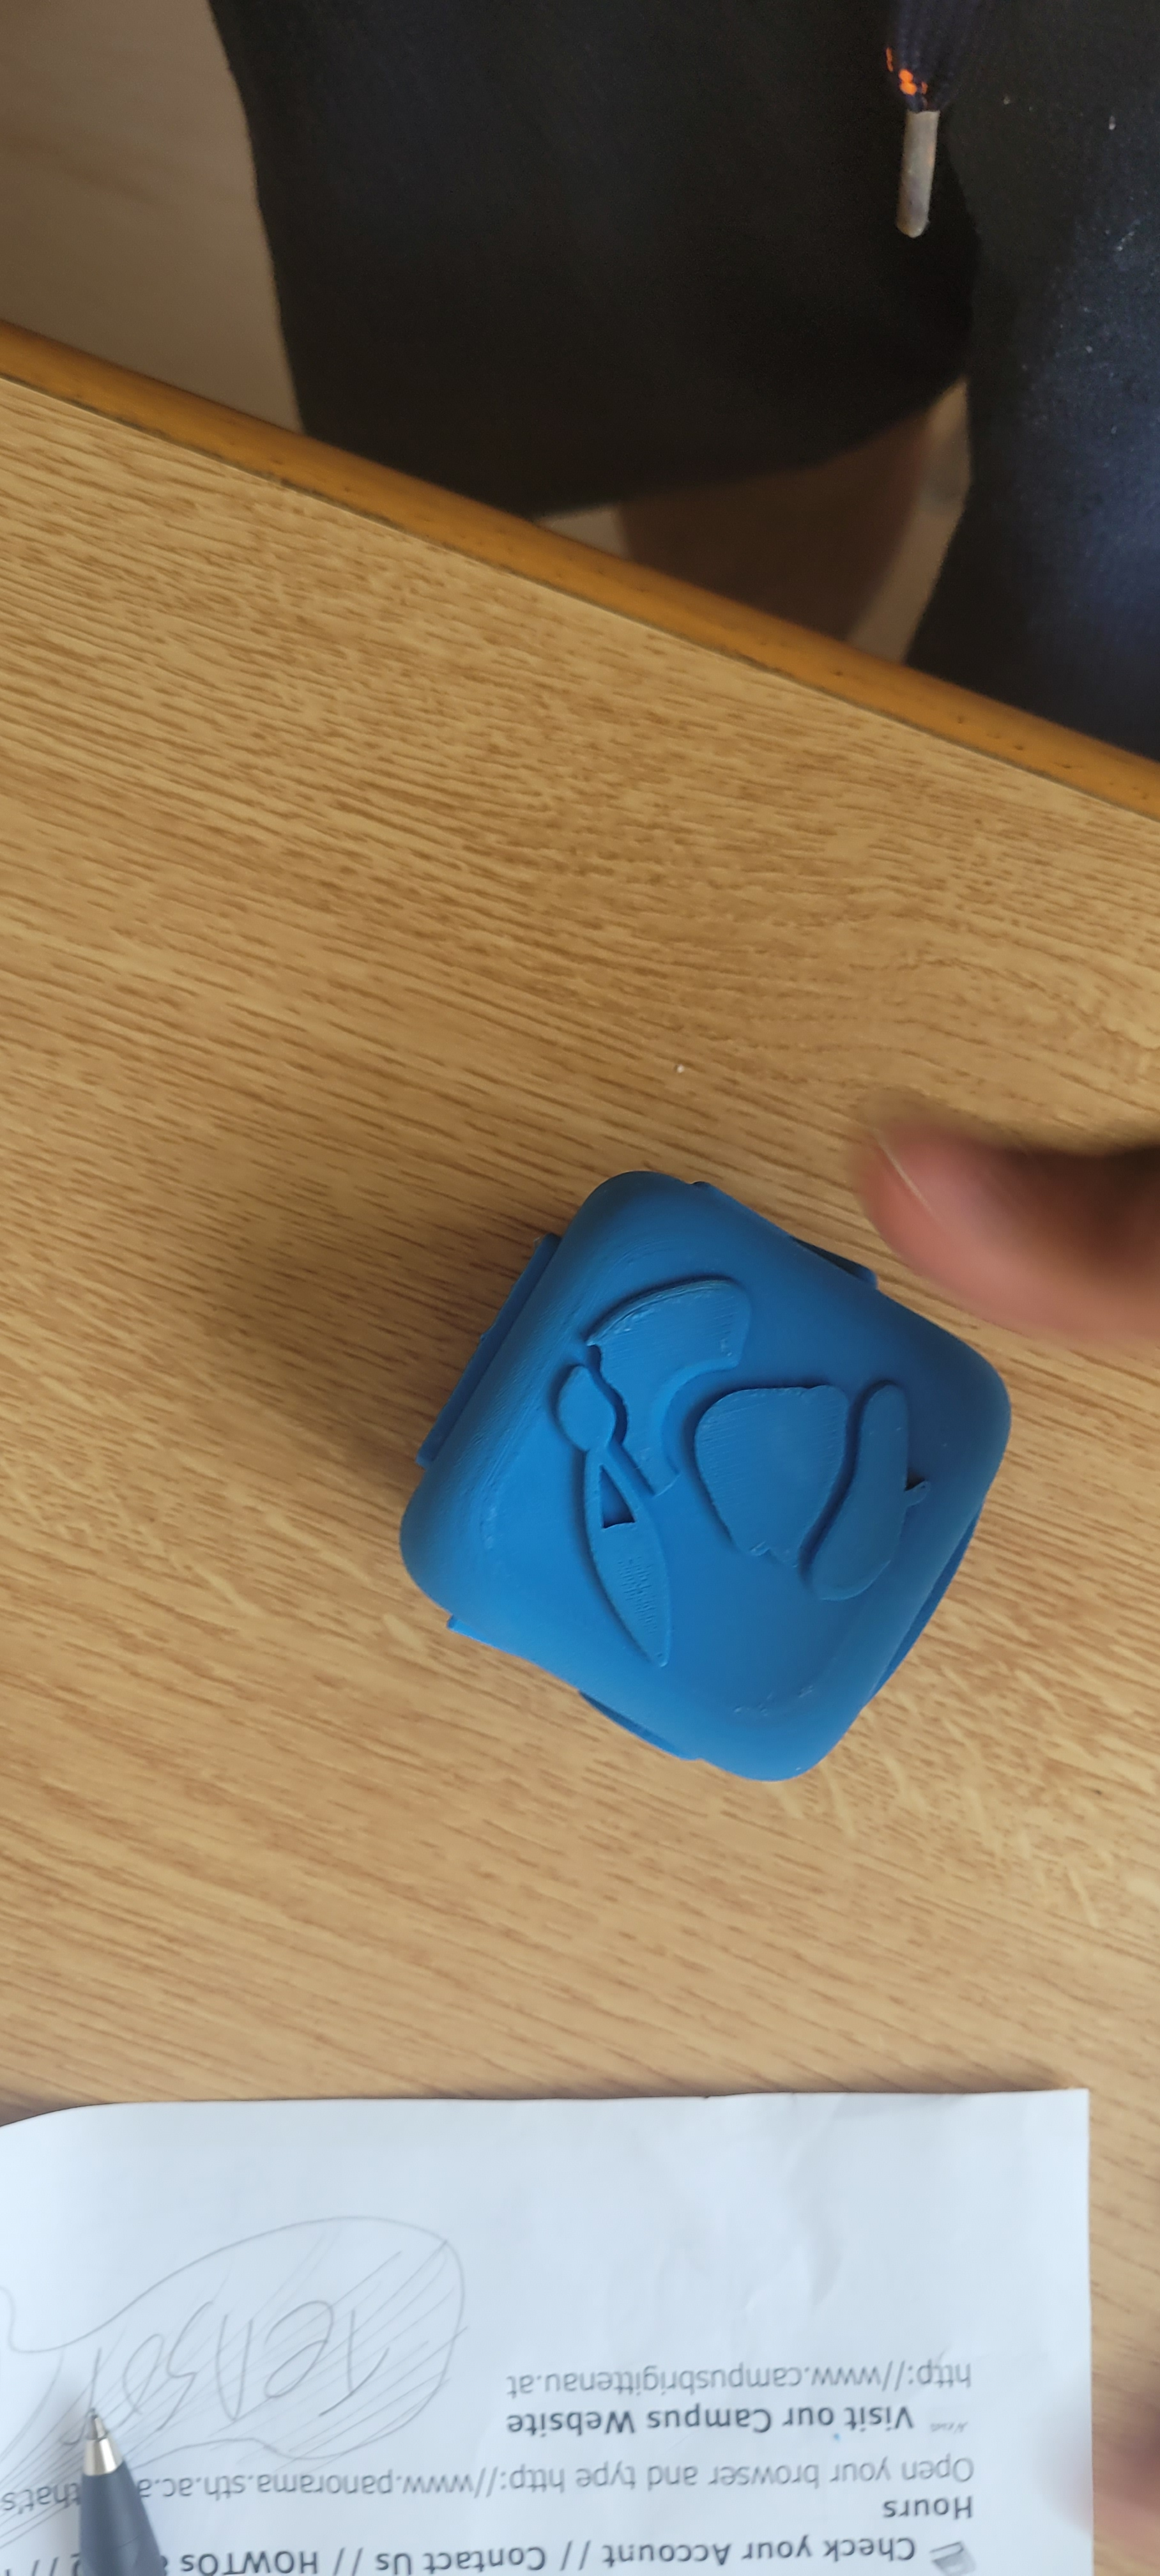Artist_Info: (419, 1106, 989, 1751)
